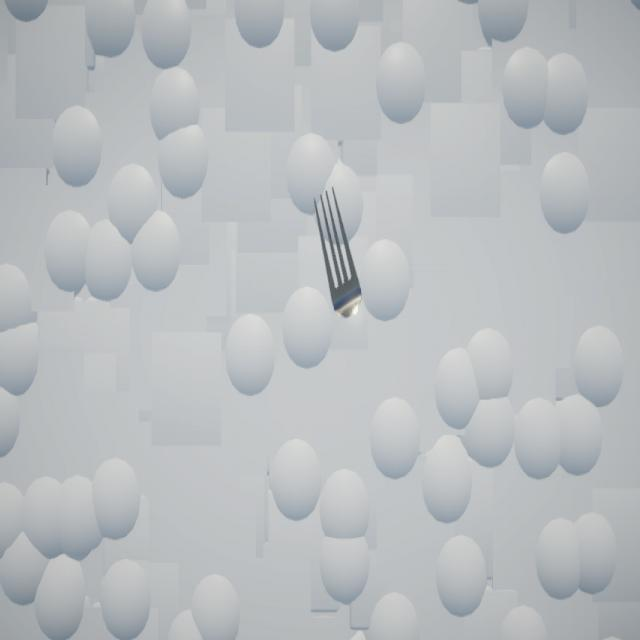top_folk: (315, 187, 363, 320)
